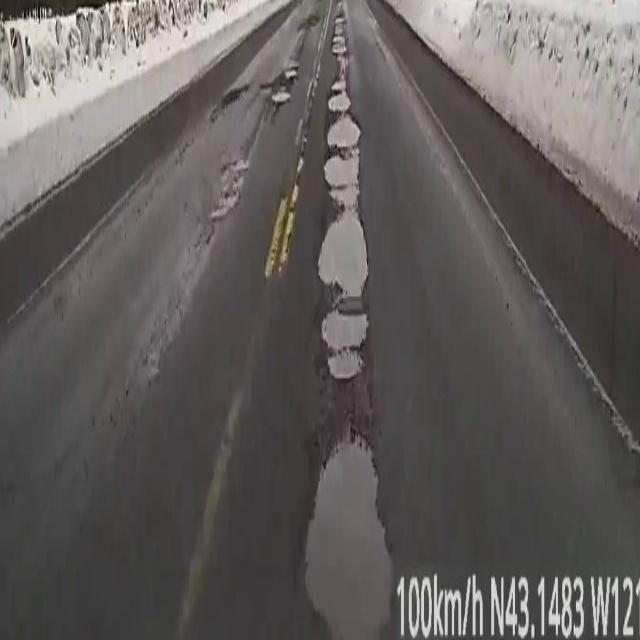pothole: (318, 0, 368, 378), (306, 504, 392, 595), (272, 64, 297, 102)
